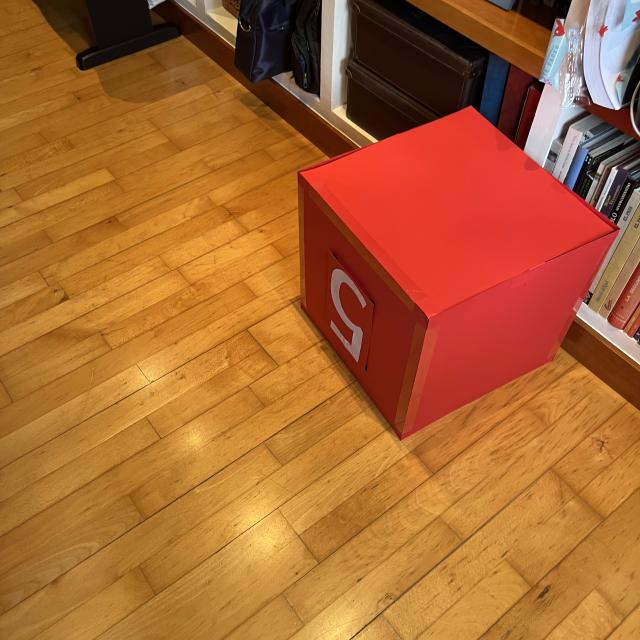box: (294, 104, 619, 441)
